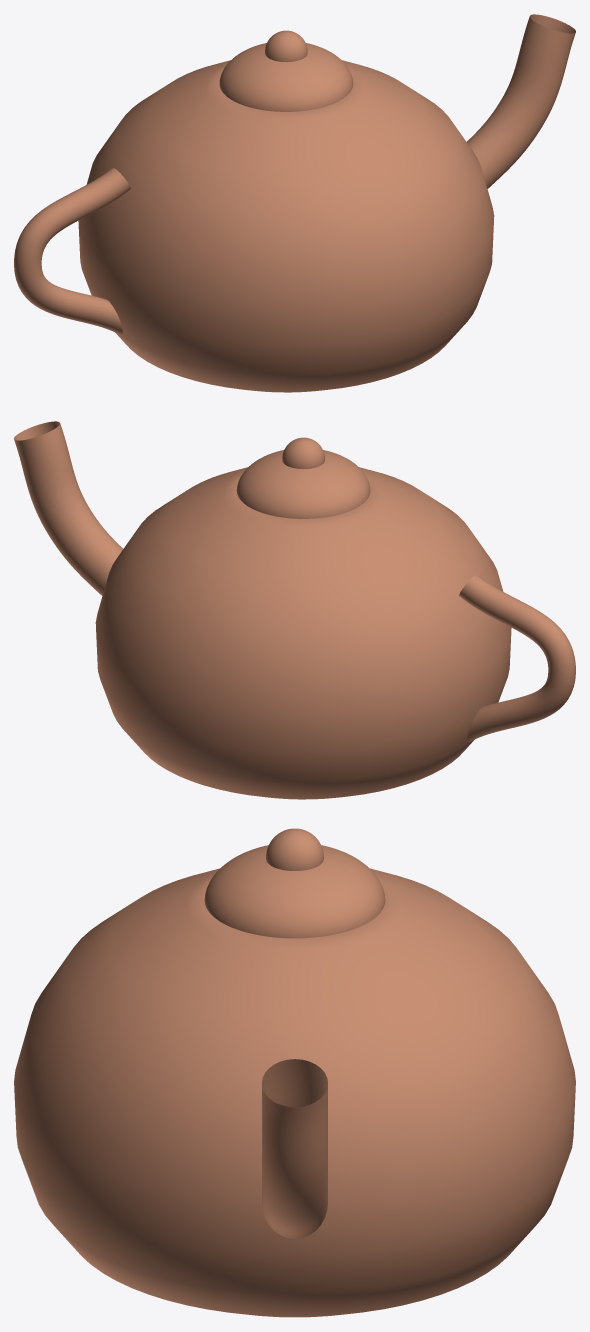
The model's file is tetera.glb.
3 renders of one model, top to bottom at view 1: azimuth 30°, elevation 25°; view 2: azimuth 150°, elevation 25°; view 3: azimuth 270°, elevation 25°, orthographic. The views are drawn at different scales.
Parts seen in each view (by area): view 1: tetera, pico, asa, Sphere, Sphere.001; view 2: tetera, pico, asa, Sphere, Sphere.001; view 3: tetera, Sphere, pico, Sphere.001.
Boxes of the visible parts, left/top/right/bottom form: tetera: left=78, top=60, right=494, bottom=392; pico: left=467, top=14, right=575, bottom=188; asa: left=14, top=168, right=130, bottom=335; Sphere: left=219, top=43, right=353, bottom=111; Sphere.001: left=265, top=30, right=307, bottom=62; tetera: left=95, top=467, right=511, bottom=799; pico: left=14, top=421, right=122, bottom=595; asa: left=459, top=575, right=575, bottom=742; Sphere: left=236, top=450, right=370, bottom=518; Sphere.001: left=282, top=437, right=324, bottom=469; tetera: left=14, top=868, right=575, bottom=1317; Sphere: left=204, top=845, right=385, bottom=938; pico: left=262, top=1059, right=327, bottom=1238; Sphere.001: left=266, top=828, right=323, bottom=870.
Bounding box in the file's own units: 0.7101 × 0.379 × 0.4595.
